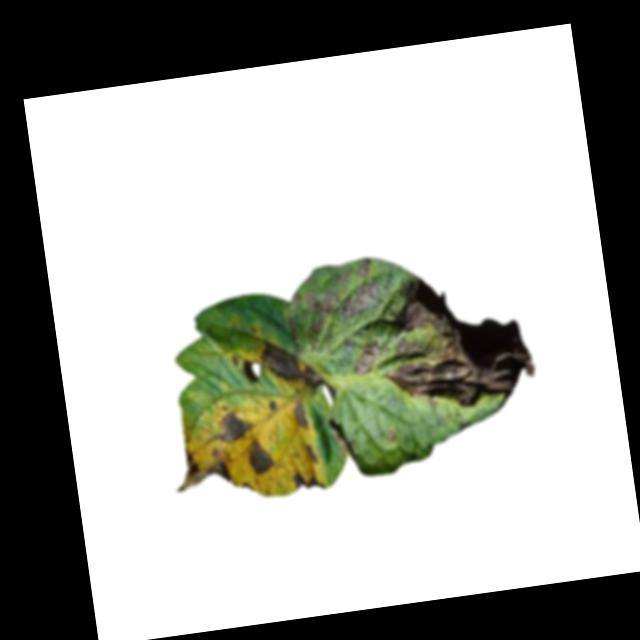Early_blight: (372, 263, 542, 417), (307, 257, 384, 322), (257, 334, 324, 398), (171, 443, 235, 496), (211, 408, 252, 447), (348, 340, 386, 379), (246, 438, 275, 479), (290, 469, 326, 494), (288, 400, 311, 434), (237, 360, 262, 389), (305, 443, 319, 467), (266, 398, 278, 412)
